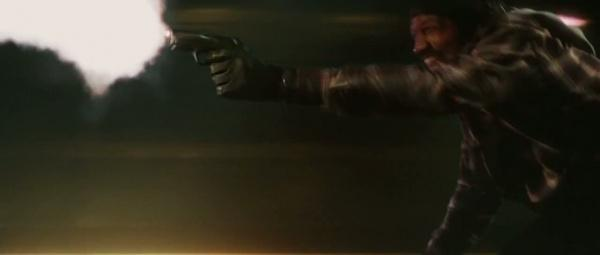Gun: (167, 28, 242, 67)
